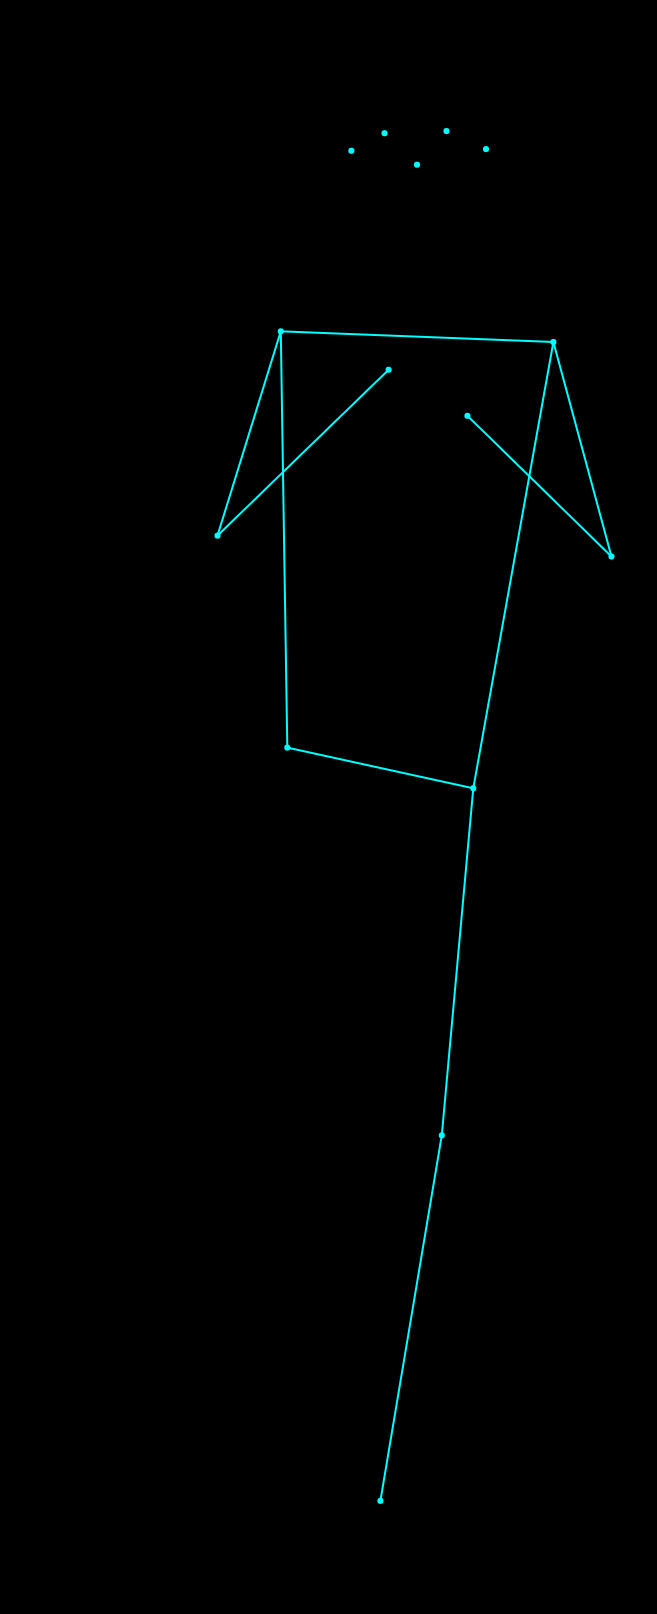tree: (205, 85, 619, 1516)
